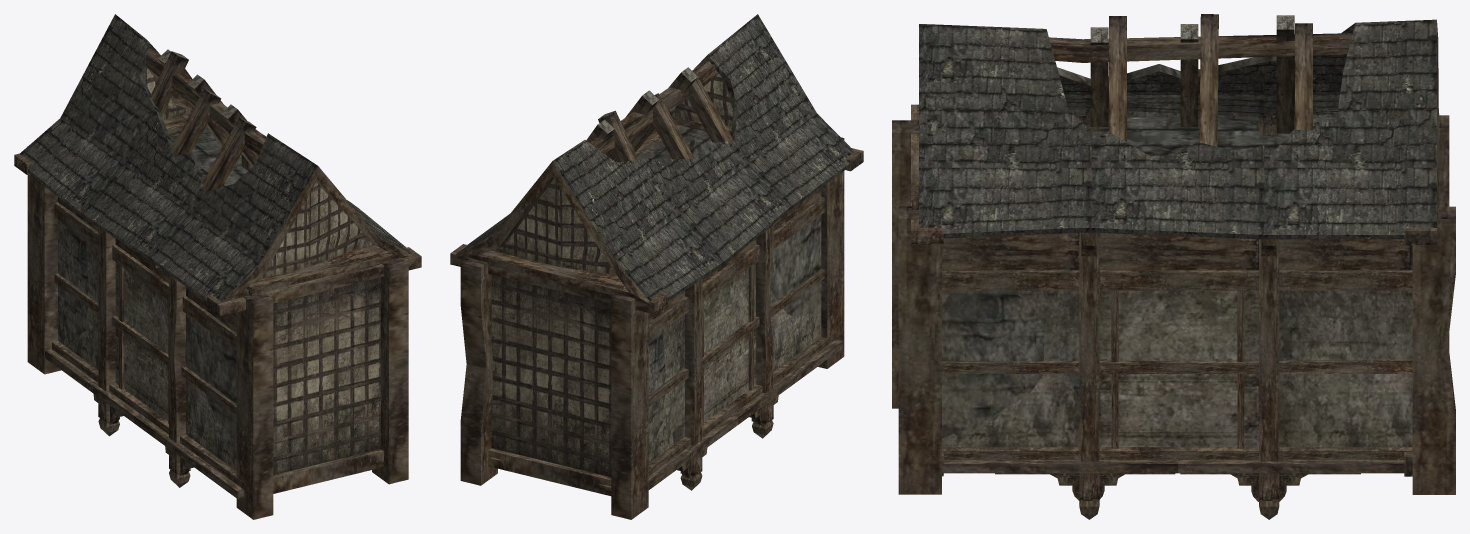
Rendered from TW2_9_HOUSE_05_01-transformed.glb.
The picture shows the model from 3 angles, left to right: view 1: azimuth 30°, elevation 25°; view 2: azimuth 150°, elevation 25°; view 3: azimuth 270°, elevation 25°; orthographic projection. The views are drawn at different scales.
Parts seen in each view (by area): view 1: default; view 2: default; view 3: default.
Part boxes in pixels (bbox=[...]): default: bbox=[14, 14, 421, 519]; default: bbox=[450, 14, 863, 519]; default: bbox=[892, 14, 1455, 519].
Bounding box in the file's own units: 4.83 × 8.21 × 9.11.
Materials: 1 (1 with a texture image).
